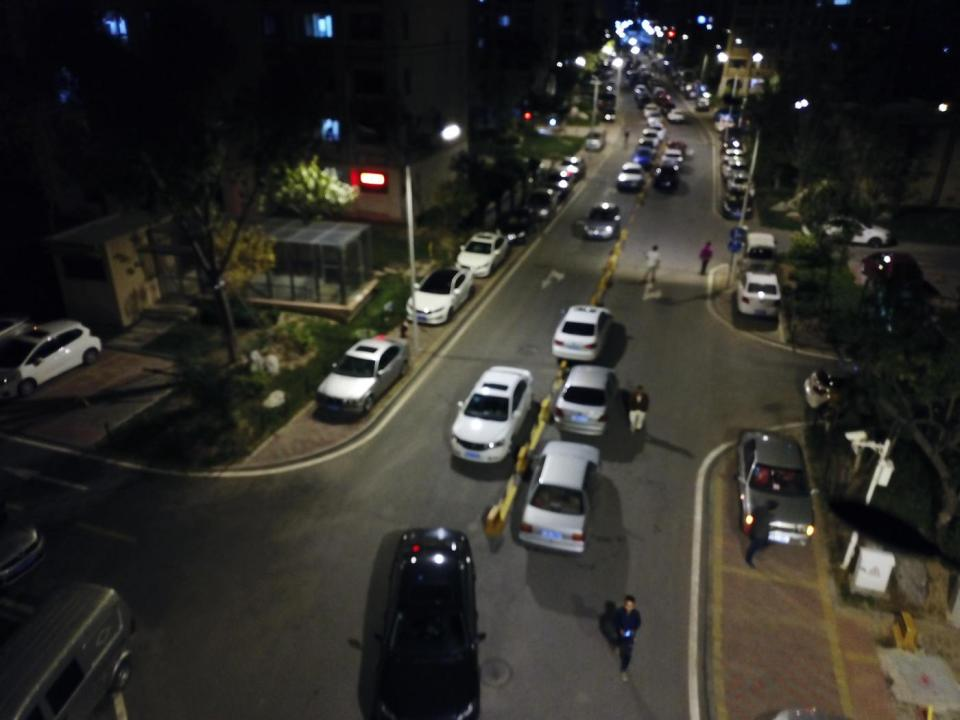car: (370, 524, 489, 720), (733, 421, 821, 547), (516, 437, 606, 556), (447, 364, 536, 466), (0, 319, 103, 399), (315, 332, 409, 418), (799, 358, 908, 420), (550, 360, 618, 440), (404, 261, 474, 325), (802, 207, 894, 250), (552, 303, 614, 365), (859, 249, 926, 291), (454, 227, 507, 279), (734, 268, 783, 318), (733, 228, 783, 274), (581, 198, 622, 242), (515, 185, 562, 222), (495, 205, 529, 245), (538, 169, 578, 198), (650, 161, 680, 194), (722, 188, 752, 218), (721, 154, 754, 180), (616, 162, 646, 190), (728, 171, 757, 199), (556, 154, 586, 180), (714, 105, 748, 124), (632, 144, 658, 168), (724, 145, 747, 167), (721, 134, 744, 155), (661, 146, 686, 165), (714, 116, 739, 134), (640, 102, 661, 119), (643, 123, 666, 138), (638, 134, 659, 150), (668, 140, 686, 158), (695, 92, 713, 110), (666, 108, 686, 124), (647, 111, 665, 124)
van: (3, 580, 136, 720), (584, 128, 607, 150)
